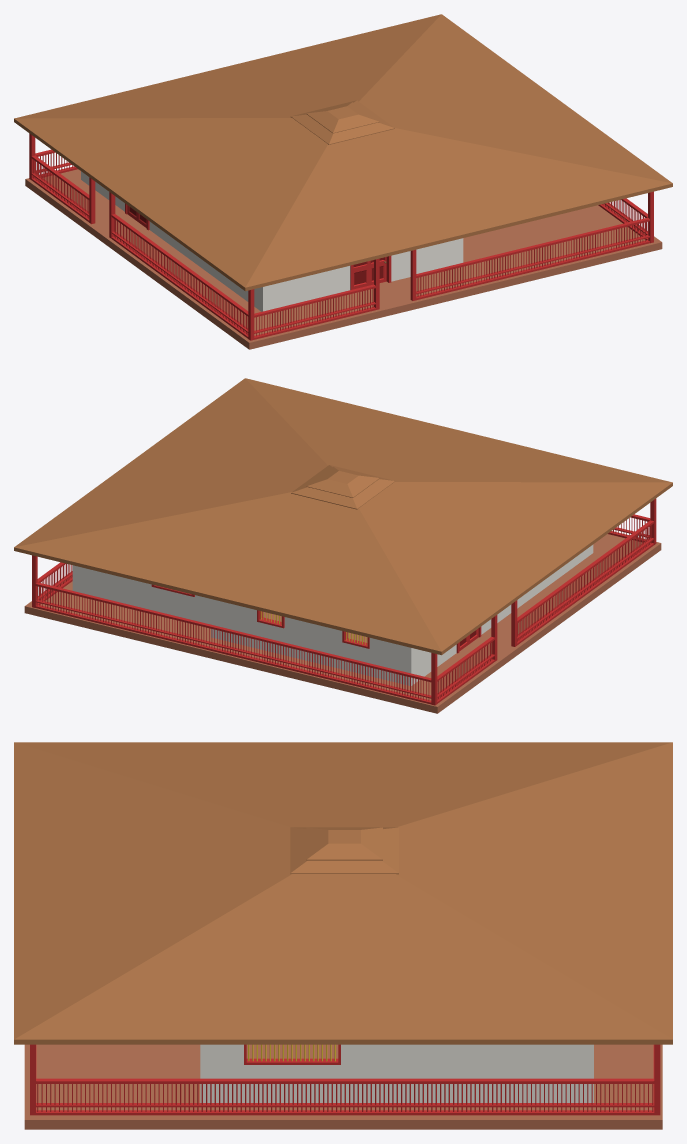
The model's file is casa cafetera-04.fbx.
3 views of the same model, one above another, from view 1: azimuth 30°, elevation 25°; view 2: azimuth 150°, elevation 25°; view 3: azimuth 270°, elevation 25° (orthographic). The views are drawn at different scales.
Parts seen in each view (by area): view 1: Plane, Cube.002, Cube.017, Cube.038, Cube.039, Cube.018, Cylinder, Cylinder.006, Plane.005, Plane.004, Cylinder.002, Cylinder.005 (+2 smaller); view 2: Plane, Cube.002, Cube.017, Cylinder.004, Cube, Cube.038, Cube.039, Cube.018, Cylinder.006, Plane.005, Plane.004, Cylinder.005; view 3: Plane, Cube.002, Cube, Cylinder.003, Cube.038, Cube.039, Cube.018, Plane.004, Plane.005, Cylinder.019, Cube.031.
Part boxes in pixels (box(x1,y1,x2,y2)): Plane: box(14, 14, 672, 291); Cube.002: box(25, 169, 662, 349); Cube.017: box(81, 171, 463, 311); Cube.038: box(31, 149, 649, 317); Cube.039: box(31, 166, 649, 339); Cube.018: box(31, 162, 649, 333); Cylinder: box(417, 221, 648, 296); Cylinder.006: box(114, 219, 248, 334); Plane.005: box(290, 100, 394, 144); Plane.004: box(306, 102, 379, 133); Cylinder.002: box(256, 288, 373, 336); Cylinder.005: box(33, 160, 89, 218); Plane: box(14, 378, 672, 655); Cube.002: box(24, 531, 661, 713); Cube.017: box(211, 544, 593, 685); Cylinder.004: box(37, 586, 429, 700); Cube: box(72, 565, 210, 624); Cube.038: box(35, 514, 653, 682); Cube.039: box(35, 531, 653, 704); Cube.018: box(35, 527, 653, 698); Cylinder.006: box(517, 525, 651, 641); Plane.005: box(291, 465, 395, 509); Plane.004: box(306, 466, 379, 497); Cylinder.005: box(437, 642, 492, 699); Plane: box(14, 742, 672, 1044); Cube.002: box(24, 1044, 662, 1129); Cube: box(200, 1044, 593, 1102); Cylinder.003: box(37, 1084, 653, 1111); Cube.038: box(36, 1045, 654, 1083); Cube.039: box(36, 1107, 654, 1115); Cube.018: box(36, 1084, 654, 1107); Plane.004: box(306, 827, 382, 860); Plane.005: box(290, 827, 398, 874); Cylinder.019: box(248, 1044, 335, 1061); Cube.031: box(244, 1044, 340, 1064).
Bounding box in the file's own units: 3619 × 846 × 3389.
